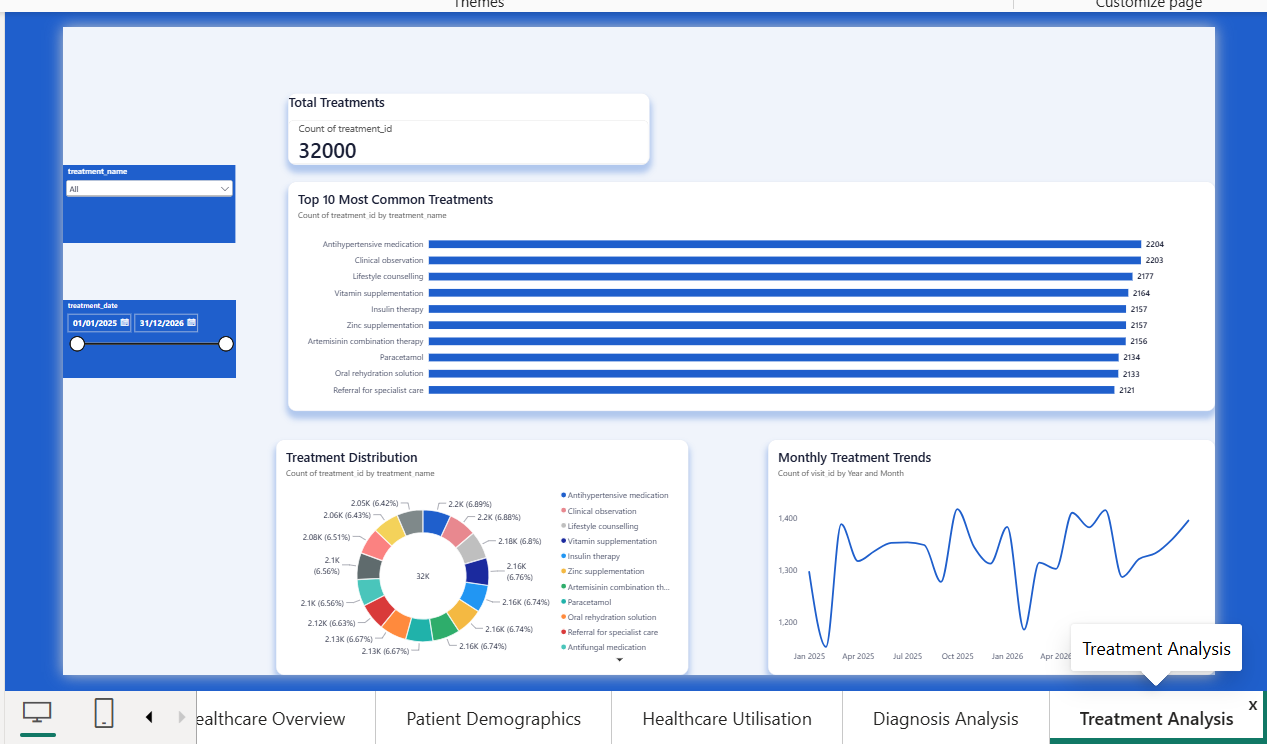

This screenshot's page, from the dashboard's own definition file:
{"tool":"powerbi","page":{"name":"Treatment Analysis","canvas":[1920,1080],"ordinal":4},"visuals":[{"type":"cardVisual","title":"Total Treatments","fields":{"Data":["Count(public treatments.treatment_id)"]},"box":[375,110,602.5,120],"z":0},{"type":"clusteredBarChart","title":"Top 10 Most Common Treatments","fields":{"Category":["public treatments.treatment_name"],"Y":["CountNonNull(public treatments.treatment_id)"]},"box":[375,257.5,1545,382.5],"z":1},{"type":"lineChart","title":"Monthly Treatment Trends","fields":{"Category":["public treatments.treatment_date.Variation.Date Hierarchy.Year","public treatments.treatment_date.Variation.Date Hierarchy.Month"],"Y":["CountNonNull(public treatments.visit_id)"]},"box":[1175,687.5,745,392.5],"z":2},{"type":"donutChart","title":"Treatment Distribution","fields":{"Category":["public treatments.treatment_name"],"Y":["CountNonNull(public treatments.treatment_id)"]},"box":[355,687.5,687.5,392.5],"z":3},{"type":"slicer","fields":{"Values":["public treatments.treatment_date"]},"box":[0,455,287.5,130],"z":4},{"type":"slicer","fields":{"Values":["public treatments.treatment_name"]},"box":[0,230,287.5,130],"z":5}]}

Visuals, with their boxes on the page's 1920x1080 design canvas (x1, y1, x2, y2). These are canvas units, not pixel positions in the 1267x744 screenshot, which may show the page scaled, cropped or inside an application window:
"Total Treatments" cardVisual: (x1=375, y1=110, x2=978, y2=230)
"Top 10 Most Common Treatments" clusteredBarChart: (x1=375, y1=258, x2=1920, y2=640)
"Monthly Treatment Trends" lineChart: (x1=1175, y1=688, x2=1920, y2=1080)
"Treatment Distribution" donutChart: (x1=355, y1=688, x2=1042, y2=1080)
slicer - public treatments.treatment_date: (x1=0, y1=455, x2=288, y2=585)
slicer - public treatments.treatment_name: (x1=0, y1=230, x2=288, y2=360)
